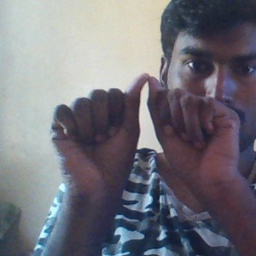A: (47, 70, 242, 185)
